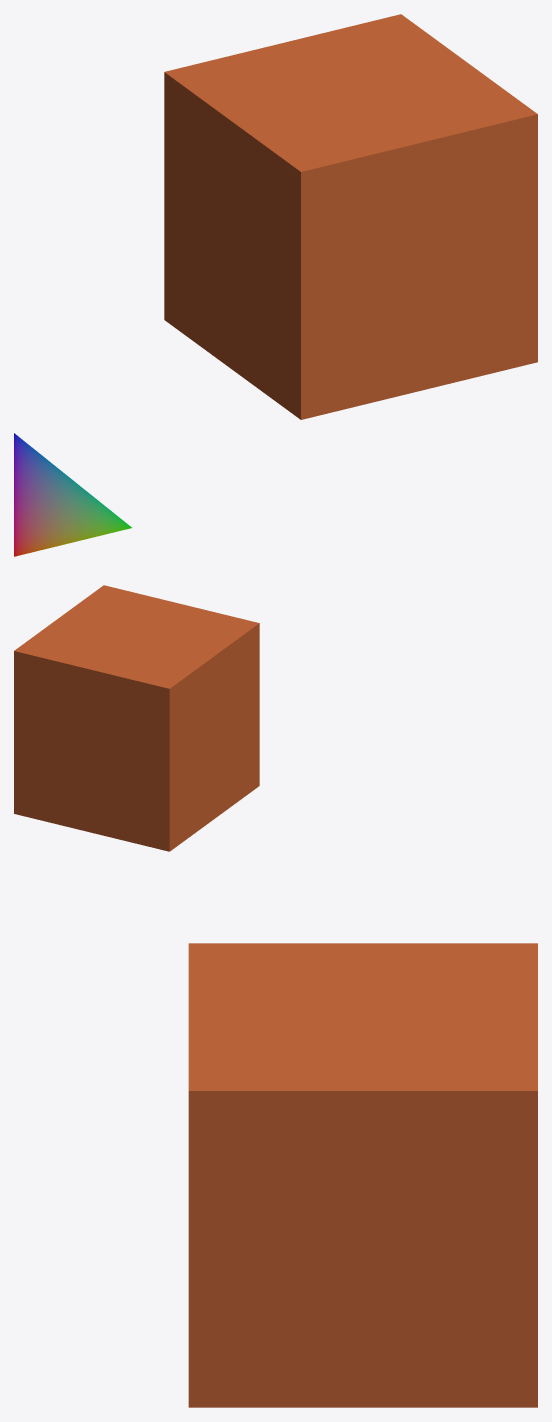
3 renders of one model, top to bottom at view 1: azimuth 30°, elevation 25°; view 2: azimuth 150°, elevation 25°; view 3: azimuth 270°, elevation 25°, orthographic. The views are drawn at different scales.
Bounding box in the file's own units: 5 × 2 × 3.
